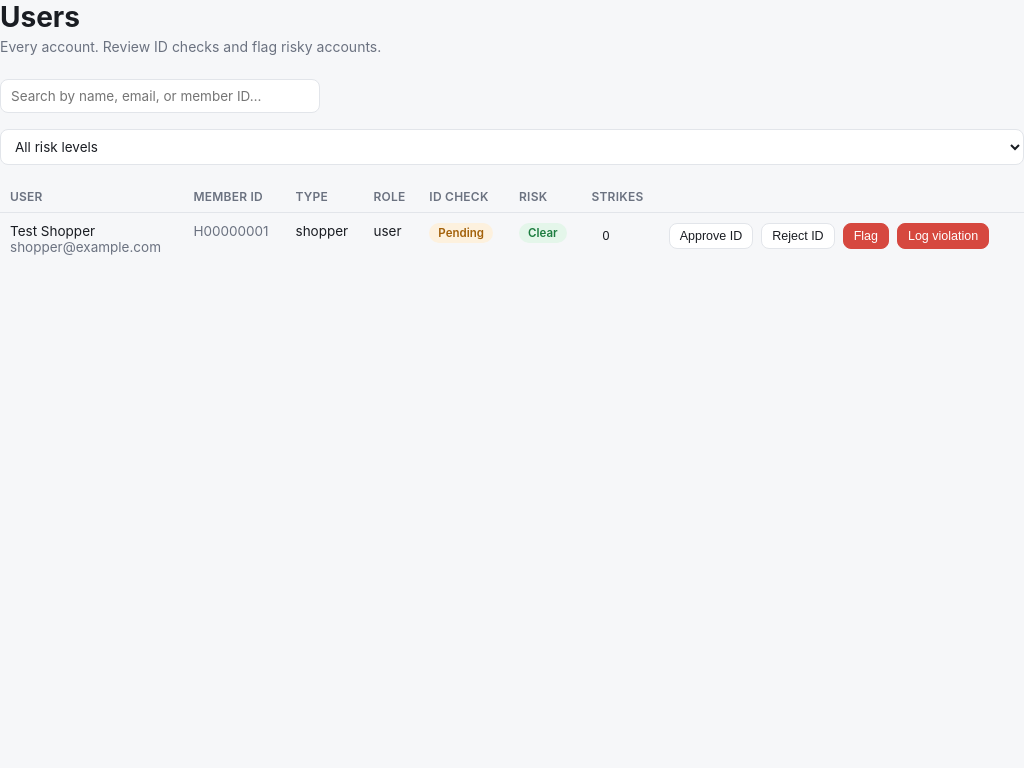
Test case: UsersPage › rejects an ID check with a fixed reason — no free text required
Click the button "Reject ID" at coordinates (798, 236), box [761,223,835,249]
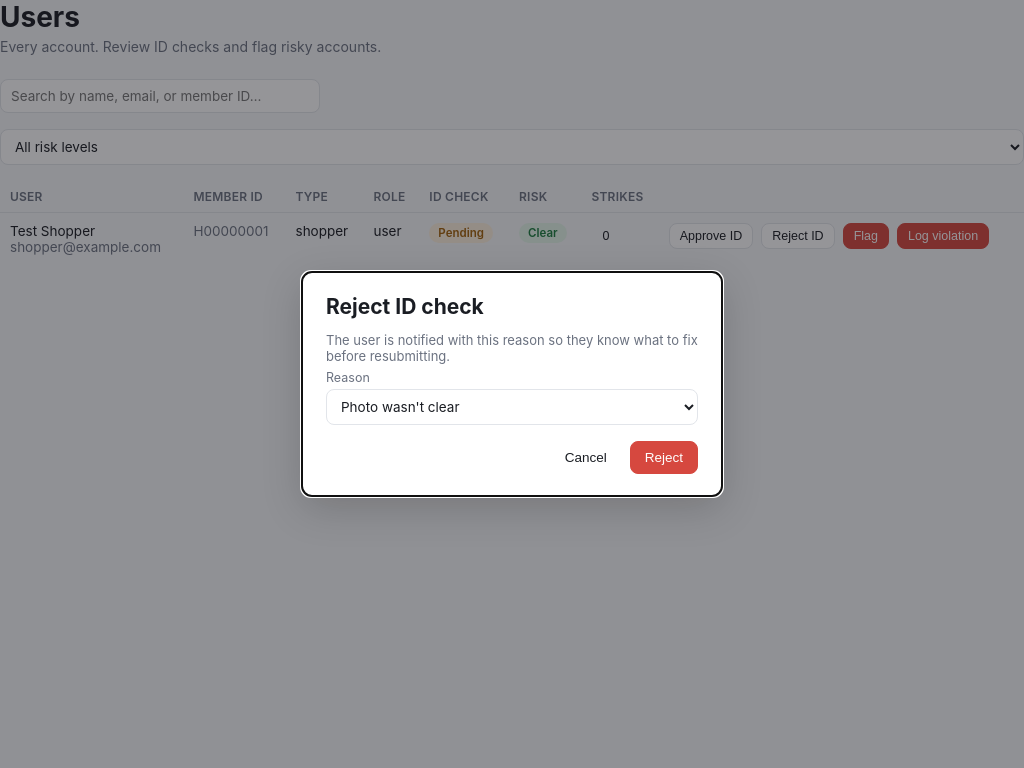
expect the button "Reject" is enabled: met
Click the button "Reject" at coordinates (664, 458), box [630,441,698,474]
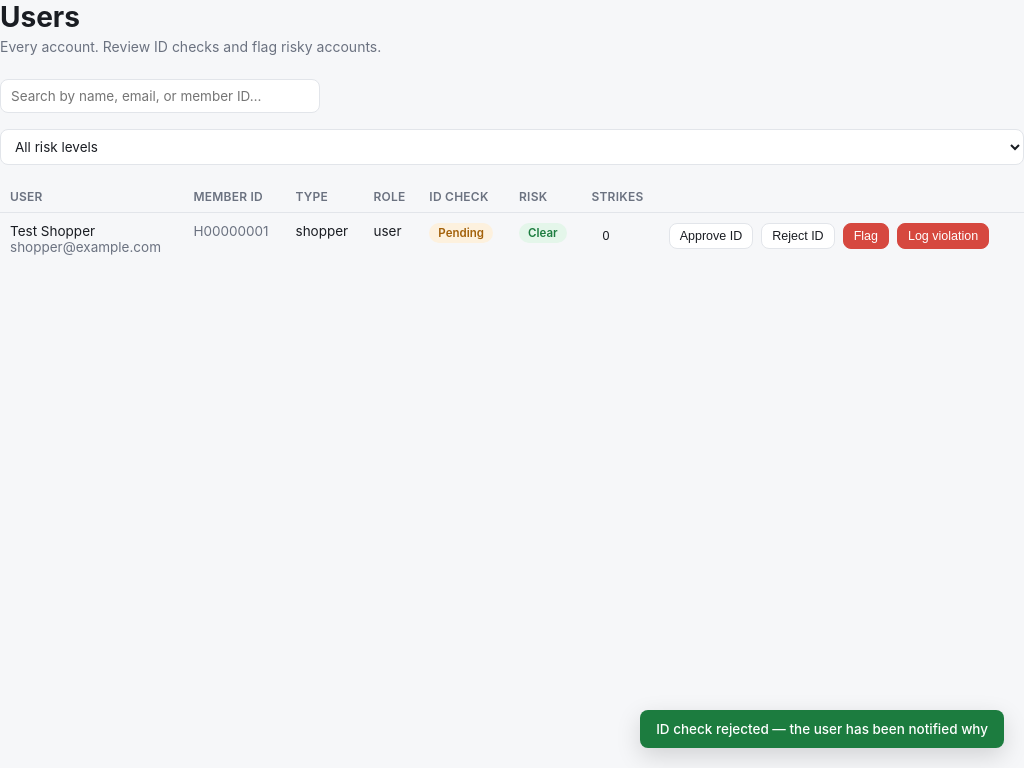
expect the heading "Reject ID check" is gone: met
